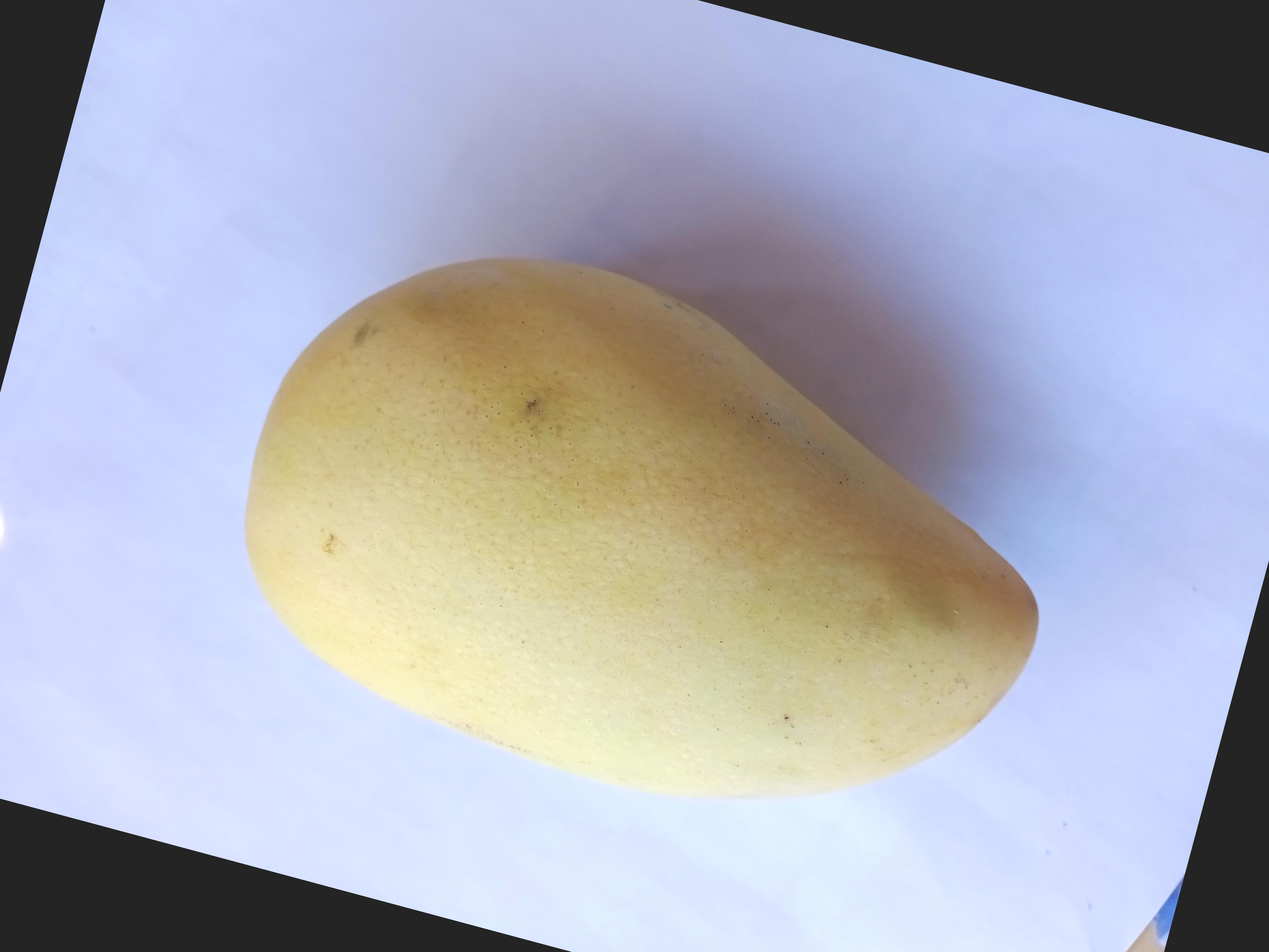Mango Ripe: (285, 0, 1269, 733)
